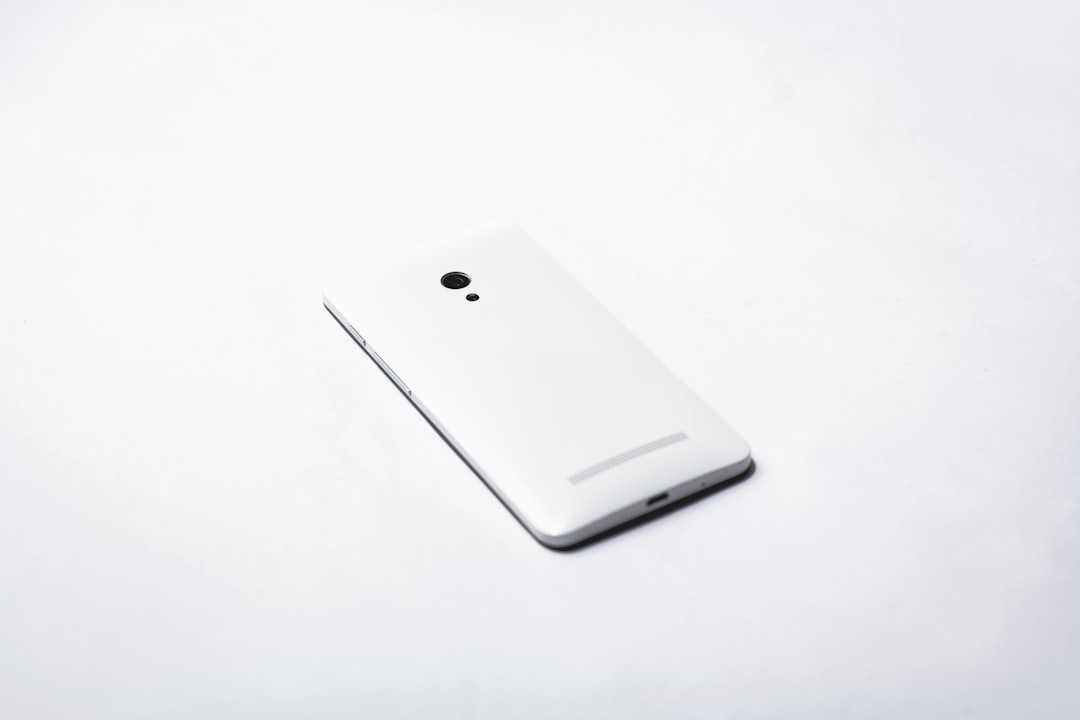phone: (322, 227, 759, 553)
